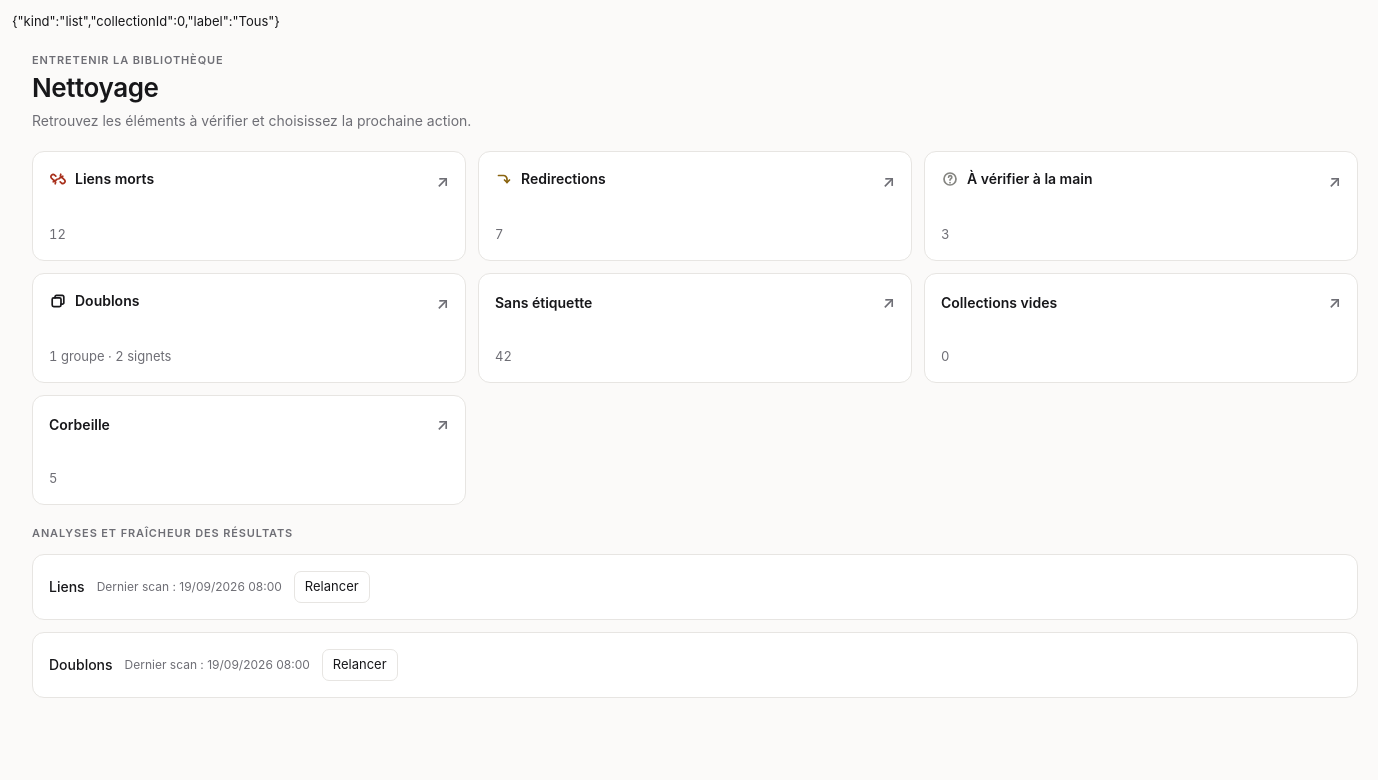
Test case: CleanupDashboard › l'event SSE error rejette le suivi et s'affiche inline
Click the button named "Lancer l'analyse". click: [332, 586]
box: left=294, top=570, right=370, bottom=602
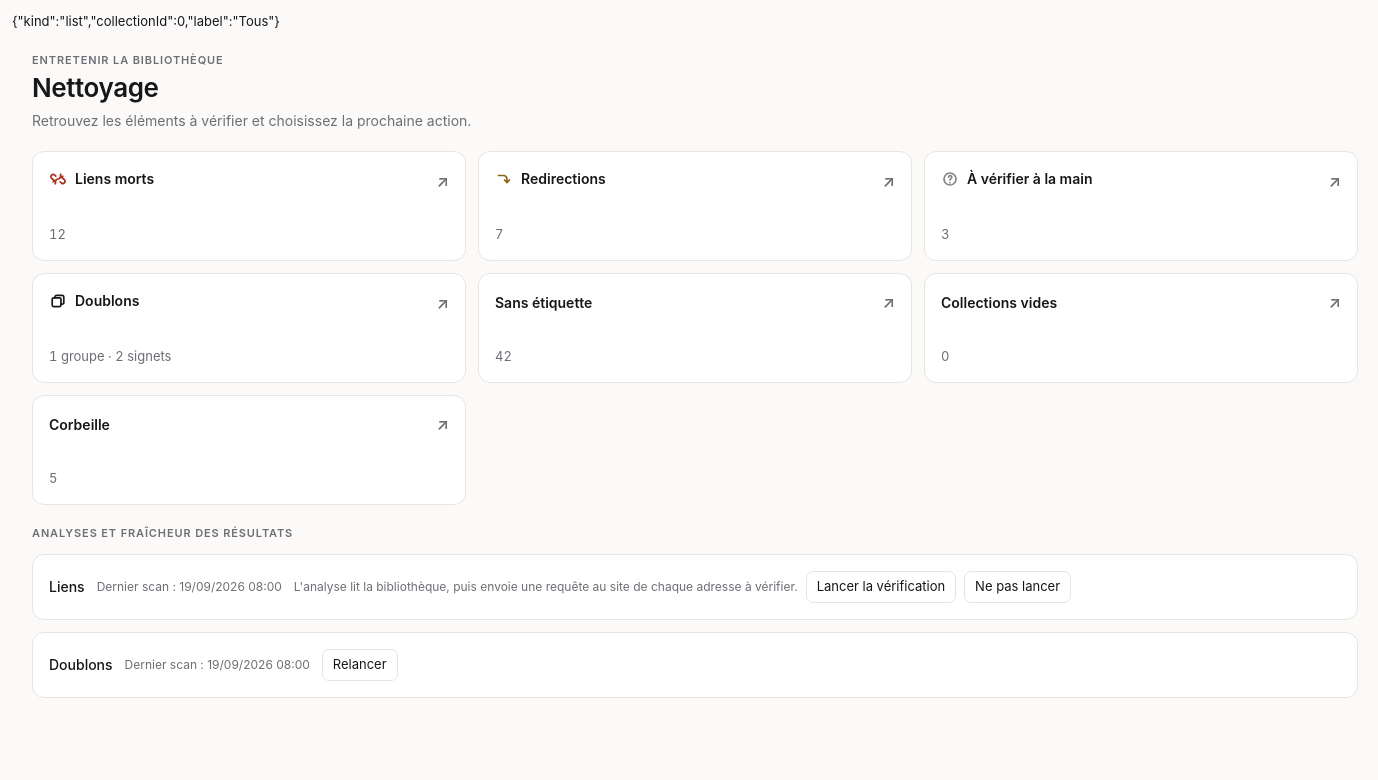
Click the button "Lancer la vérification". click: [881, 586]
box: left=806, top=570, right=956, bottom=602
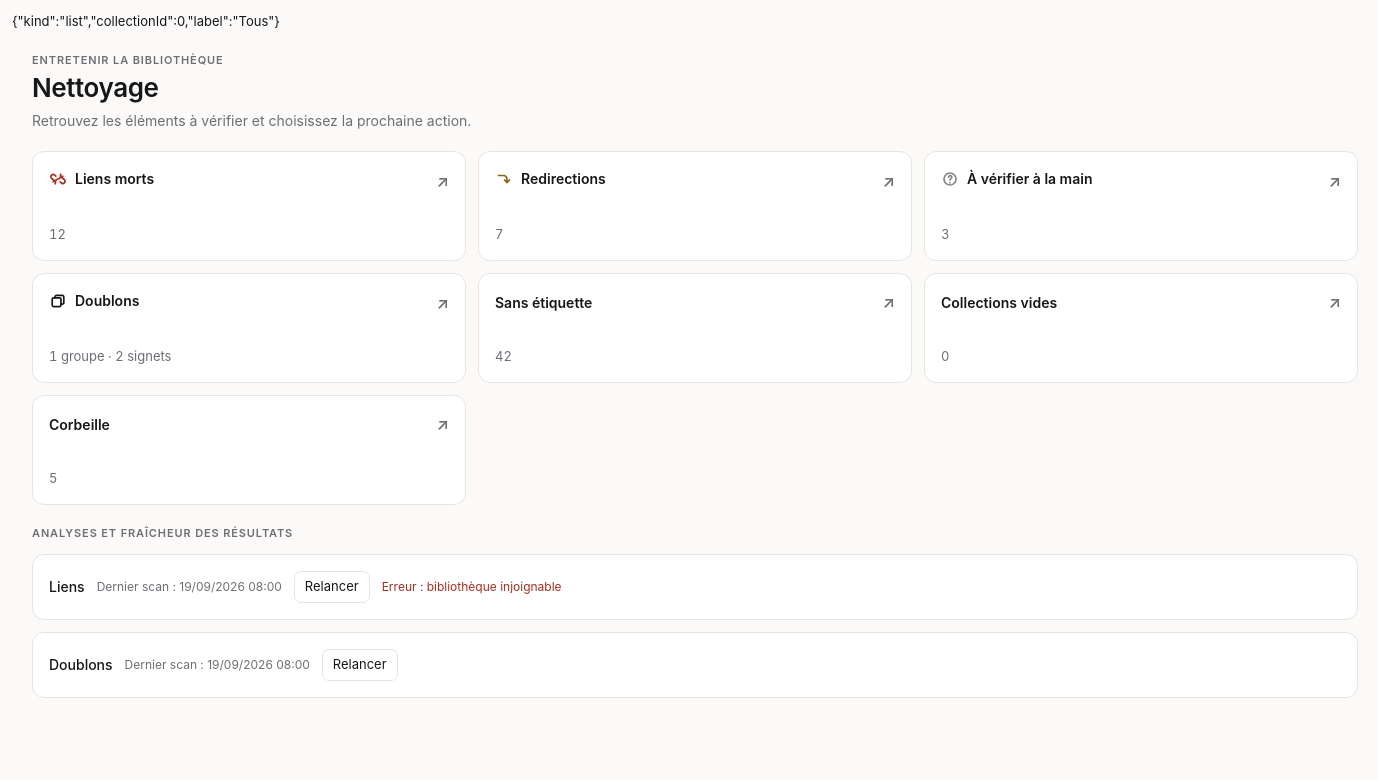
Now the message reads "Erreur : bibliothèque injoignable", box left=382, top=578, right=562, bottom=594
